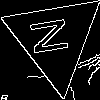N: (29, 14, 78, 57)
